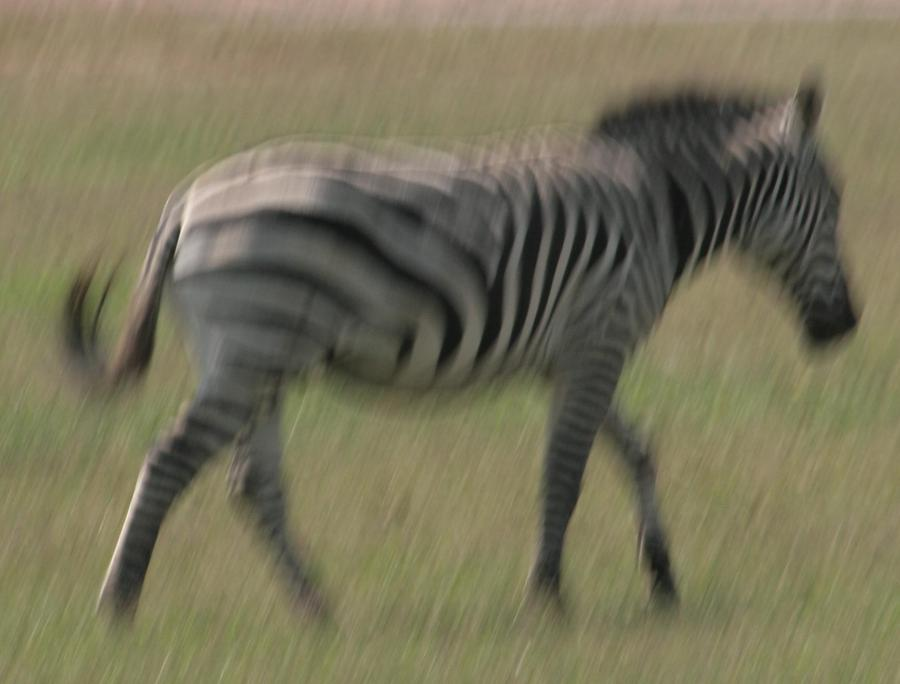zebra_plains: (168, 104, 686, 421)
